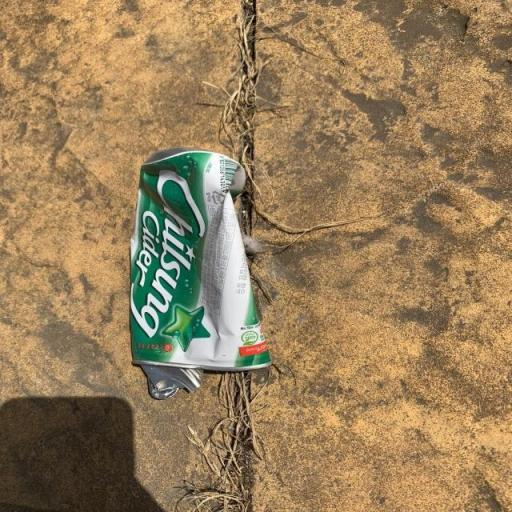metal: (92, 133, 302, 409)
